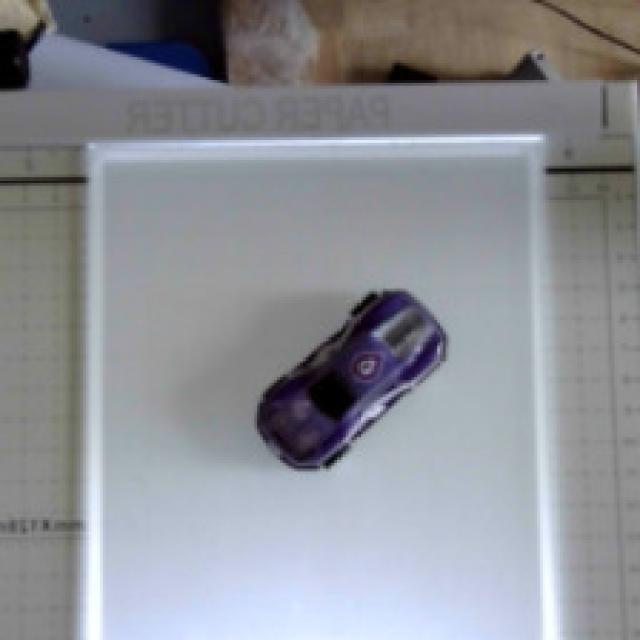Purple Car: (184, 248, 473, 486)
